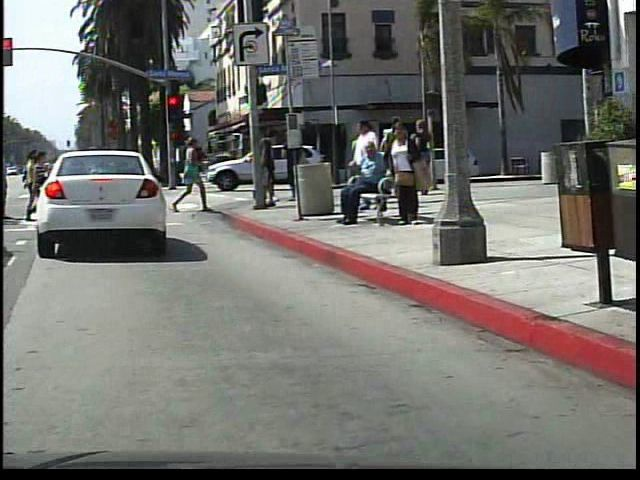person: (343, 145, 398, 225), (390, 121, 427, 231), (178, 130, 221, 220)
